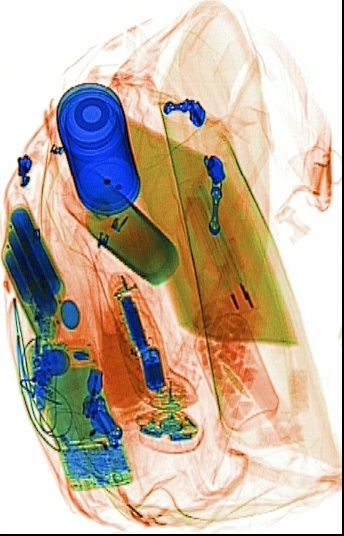powerbank: (2, 201, 61, 340)
